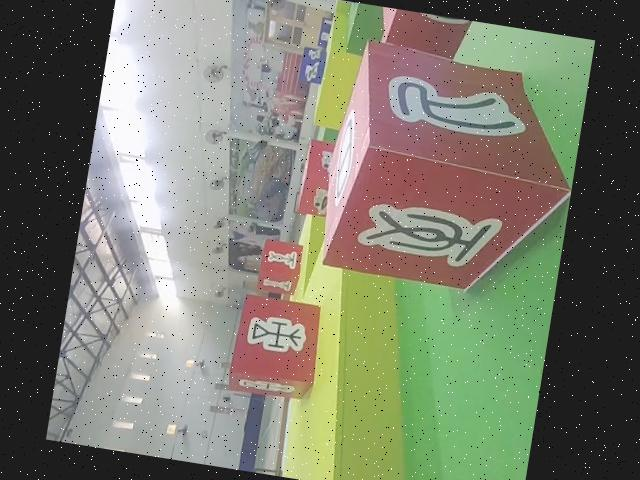R2 Fake: (311, 34, 590, 304)
R2 Real: (223, 290, 328, 406), (372, 6, 493, 65), (255, 235, 303, 294)
